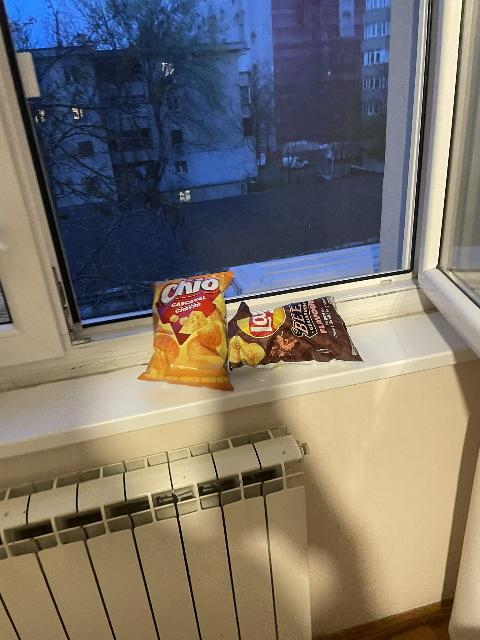Chio Cascaval 125g: (137, 272, 237, 387)
Lays Beef Grilled Ribs 125g: (230, 295, 359, 369)
